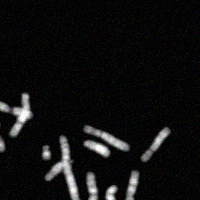chromosome: (58, 135, 79, 200), (82, 125, 129, 151), (140, 127, 171, 163), (10, 93, 30, 137), (0, 101, 32, 119), (45, 161, 73, 181), (83, 140, 110, 157), (124, 171, 139, 200), (86, 172, 98, 200), (104, 185, 123, 200), (41, 146, 50, 160), (0, 133, 5, 153)
